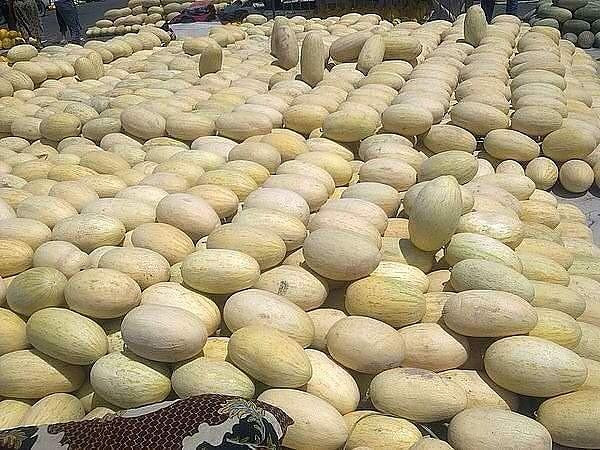melon: (0, 269, 308, 419), (272, 302, 593, 445), (392, 175, 600, 295), (450, 16, 600, 176), (189, 192, 388, 287), (187, 21, 422, 88), (0, 183, 182, 269), (155, 115, 348, 193), (4, 22, 174, 90), (295, 66, 453, 134), (0, 92, 159, 143)
